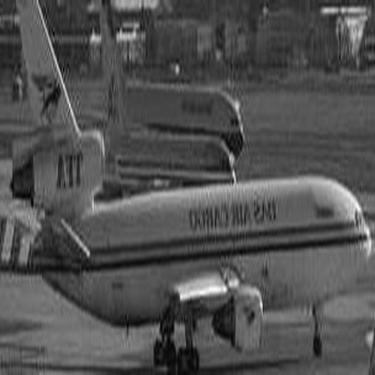airplane: (7, 7, 371, 372), (87, 1, 248, 155), (71, 65, 239, 195)
